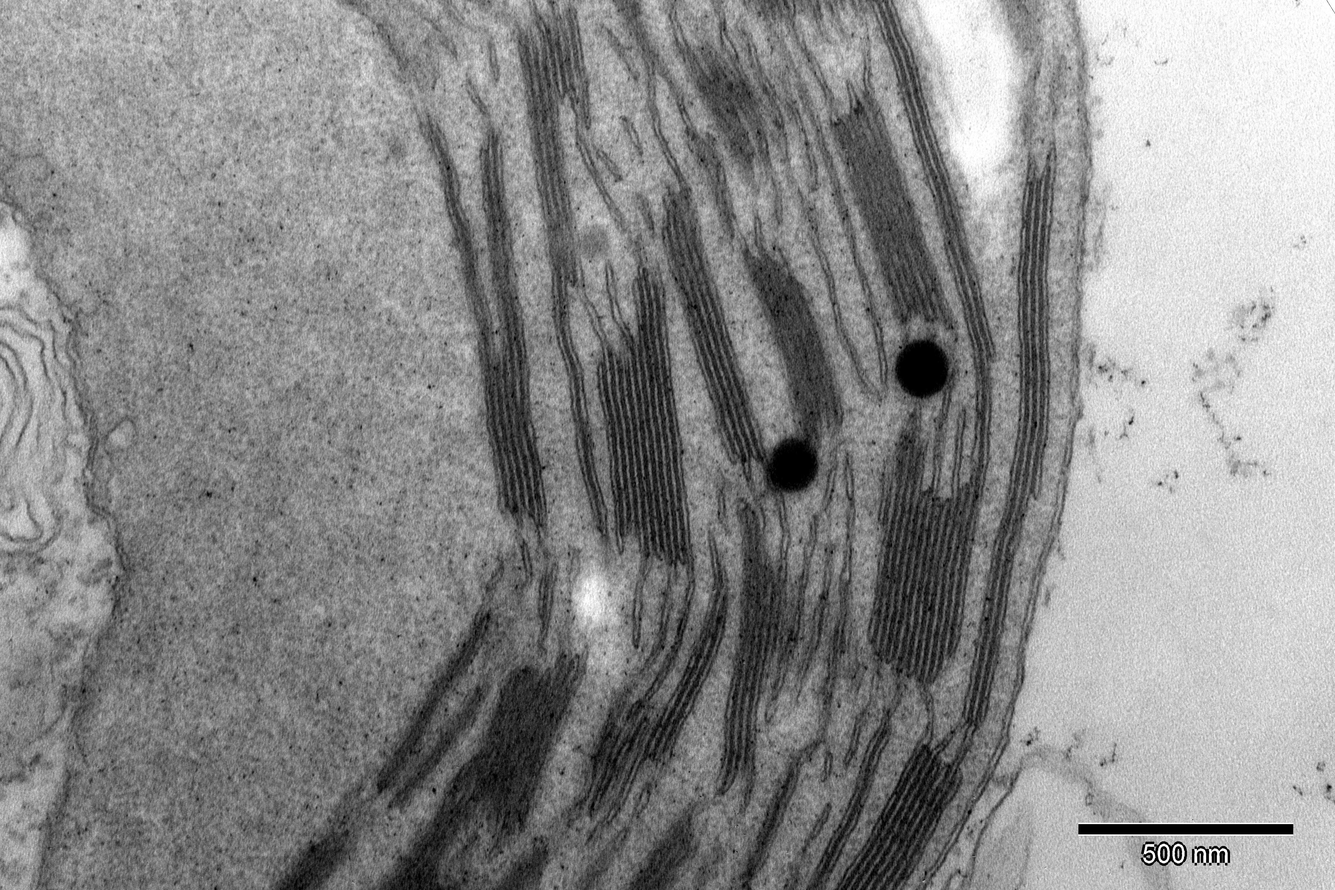granum: (961, 177, 1056, 724), (371, 650, 588, 886), (871, 5, 998, 365), (862, 415, 986, 687), (579, 588, 728, 812), (658, 185, 767, 467), (828, 97, 954, 326), (596, 275, 695, 566), (475, 144, 552, 516), (516, 0, 592, 289), (831, 738, 966, 890), (717, 505, 789, 780), (743, 253, 847, 430), (625, 825, 703, 887)
